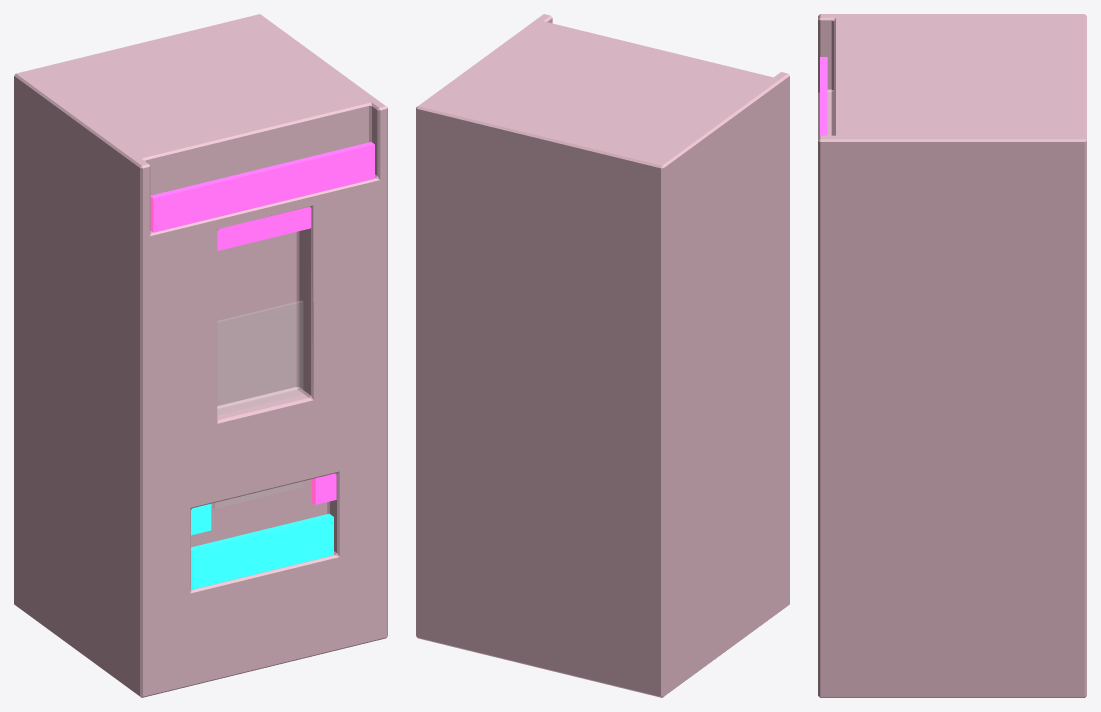
Rendered from prop_vending_soda.glb.
3 views of the same model, side by side, from view 1: azimuth 30°, elevation 25°; view 2: azimuth 150°, elevation 25°; view 3: azimuth 270°, elevation 25° (orthographic). The views are drawn at different scales.
Parts seen in each view (by area): view 1: body, magenta_panel, window_glass, cyan_disp; view 2: body; view 3: body, magenta_panel.
Part boxes in pixels (bbox=[...]): body: bbox=[14, 14, 387, 697]; magenta_panel: bbox=[150, 142, 374, 504]; window_glass: bbox=[213, 301, 302, 508]; cyan_disp: bbox=[191, 504, 333, 589]; body: bbox=[416, 14, 789, 697]; body: bbox=[818, 14, 1086, 697]; magenta_panel: bbox=[820, 57, 827, 135].
Size of the model in its own units: 0.95 by 1.95 by 0.85.
